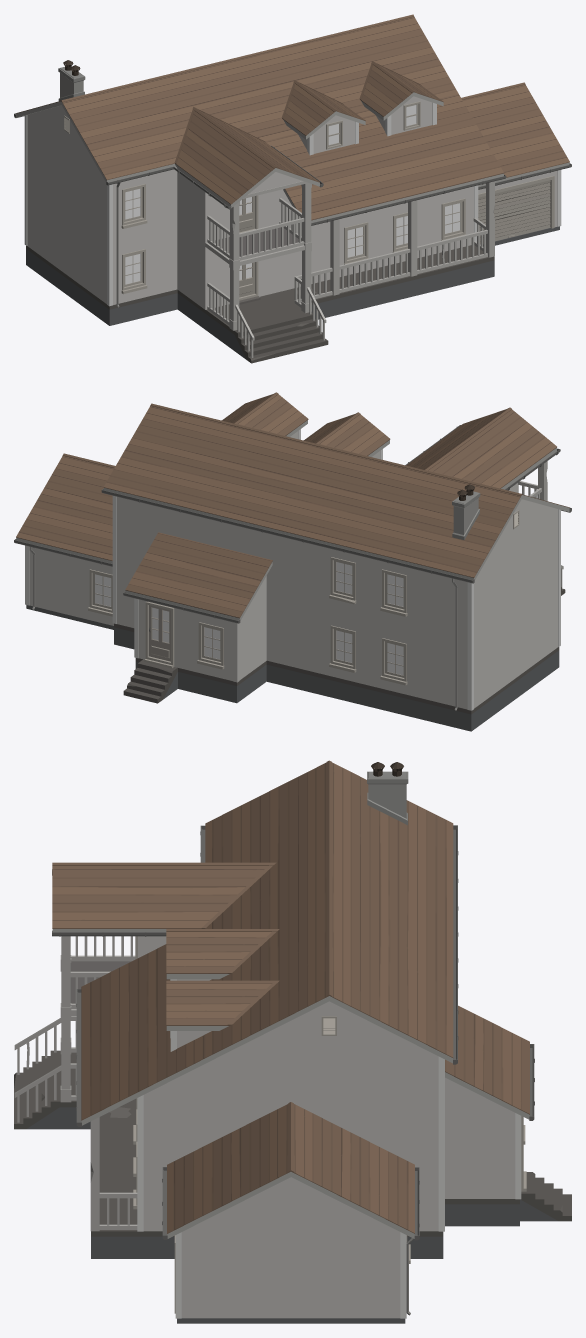
Rendered from SM_Bldg_Suburb_House_06.fbx.
3 renders of one model, top to bottom at view 1: azimuth 30°, elevation 25°; view 2: azimuth 150°, elevation 25°; view 3: azimuth 270°, elevation 25°, orthographic. The views are drawn at different scales.
Visible parts, largest first — view 1: SM_Bldg_Suburb_House_06, SM_Bldg_Suburb_House_06_Glass; view 2: SM_Bldg_Suburb_House_06, SM_Bldg_Suburb_House_06_Glass; view 3: SM_Bldg_Suburb_House_06.
Part boxes in pixels (x1,y1,x2,y2): SM_Bldg_Suburb_House_06: [14, 14, 571, 363]; SM_Bldg_Suburb_House_06_Glass: [125, 105, 460, 284]; SM_Bldg_Suburb_House_06: [14, 392, 571, 731]; SM_Bldg_Suburb_House_06_Glass: [95, 562, 403, 675]; SM_Bldg_Suburb_House_06: [14, 760, 571, 1323].
Bounding box in the file's own units: 2313 × 1038 × 1822.
